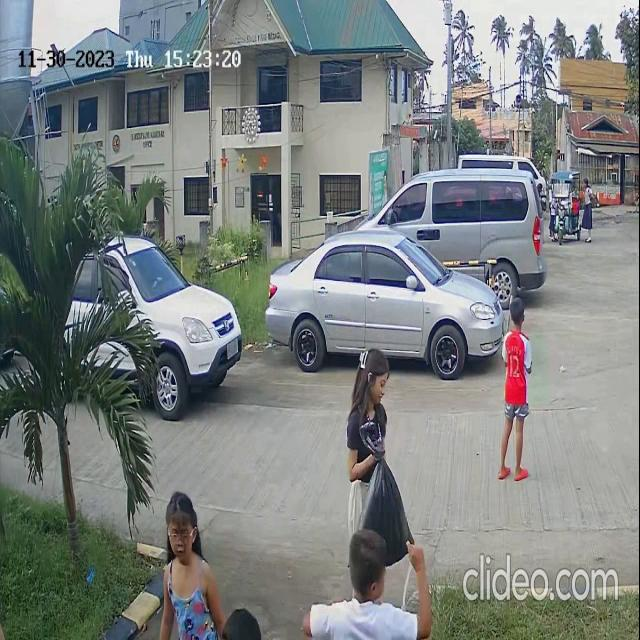garbage: (342, 453, 422, 537)
person: (344, 345, 396, 493), (156, 492, 216, 610), (502, 302, 531, 398)
